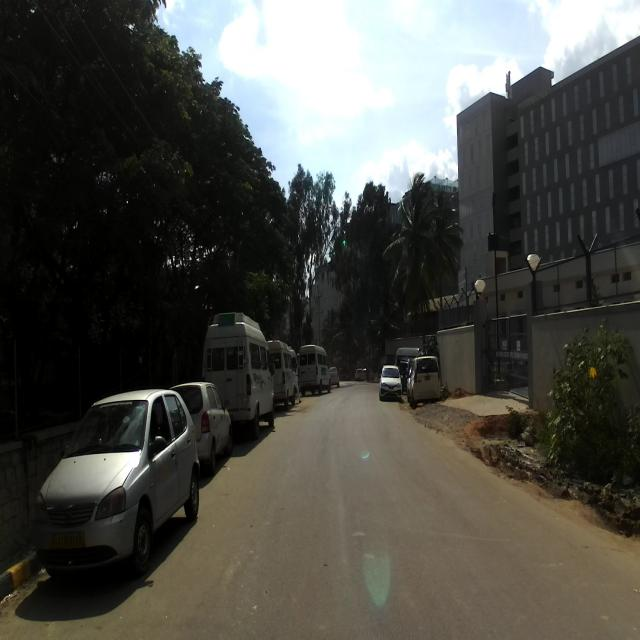car: (32, 388, 202, 586), (168, 380, 232, 476)
